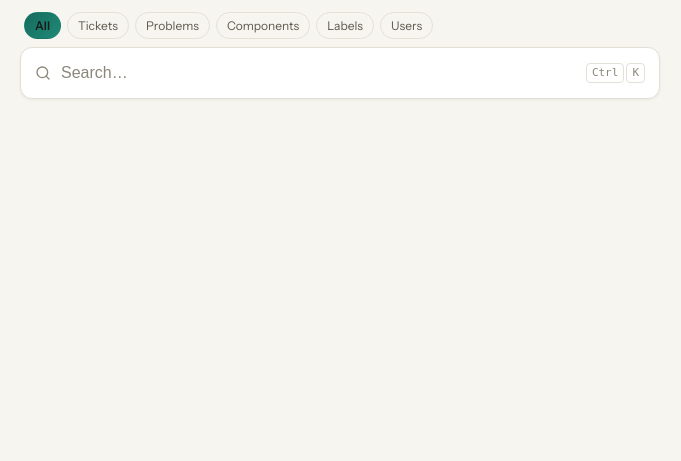
Test case: GlobalSearchBar typeahead › (g) Esc closes the dropdown
The image size is (681, 461).
Type "Bug" into the search field at (318, 73), box [61,52,576,94]
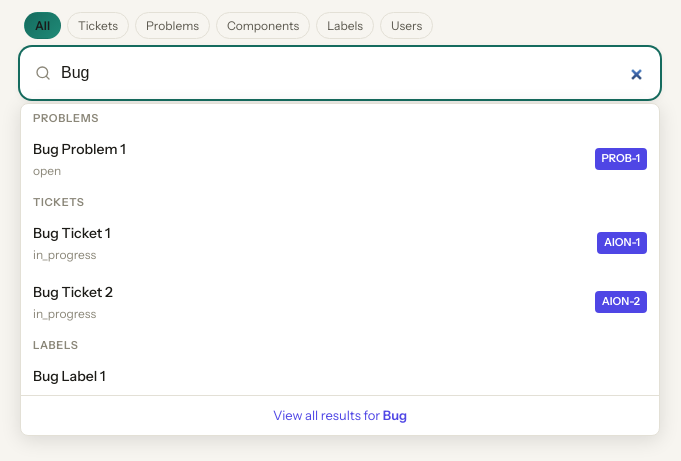
Now the text "Bug Problem 1" is shown, box [33,140,126,158]
// Dropdown is open — press Escape
Press Escape
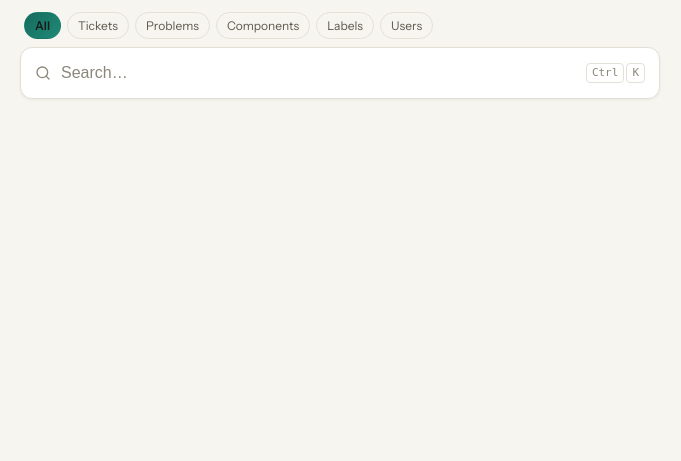
Now the option "Bug Problem 1" is gone
